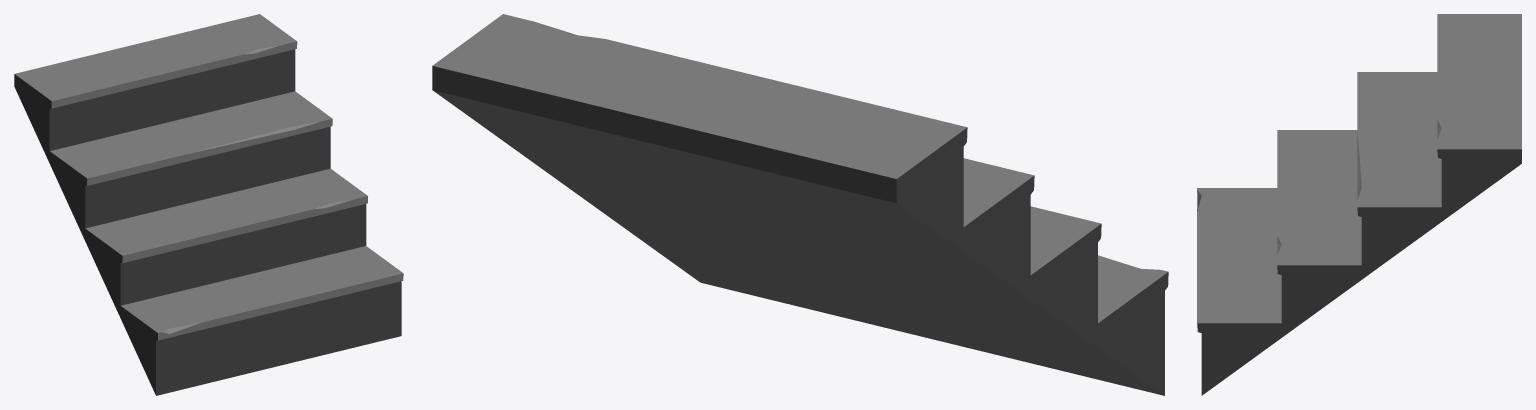
File: SW_ENV_StationStair_Steps_4.fbx
3 renders of one model, left to right at view 1: azimuth 30°, elevation 25°; view 2: azimuth 150°, elevation 25°; view 3: azimuth 270°, elevation 25°, orthographic. The views are drawn at different scales.
Visible parts, largest first — view 1: SW_ENV_StationStair_Steps_4; view 2: SW_ENV_StationStair_Steps_4; view 3: SW_ENV_StationStair_Steps_4.
Part boxes in pixels (x1=…): SW_ENV_StationStair_Steps_4: x1=14, y1=14, x2=403, y2=395; SW_ENV_StationStair_Steps_4: x1=432, y1=14, x2=1168, y2=395; SW_ENV_StationStair_Steps_4: x1=1197, y1=14, x2=1521, y2=395.
Size of the model in its own units: 100 by 85 by 101.
